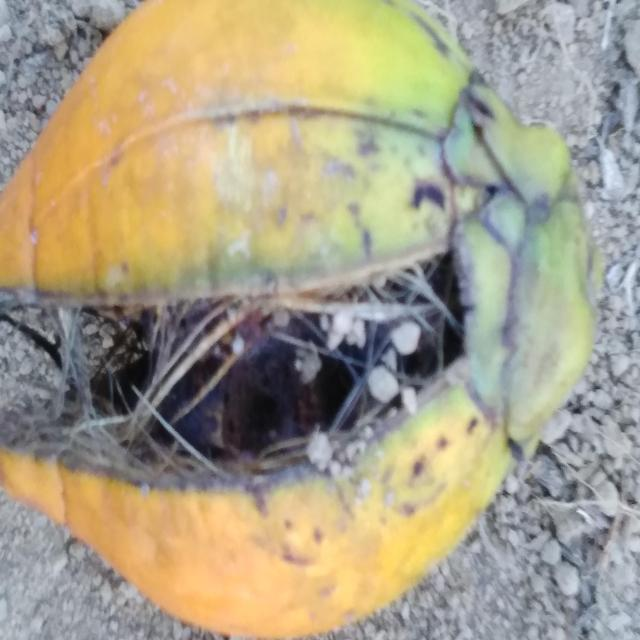damaged: (0, 0, 602, 637)
